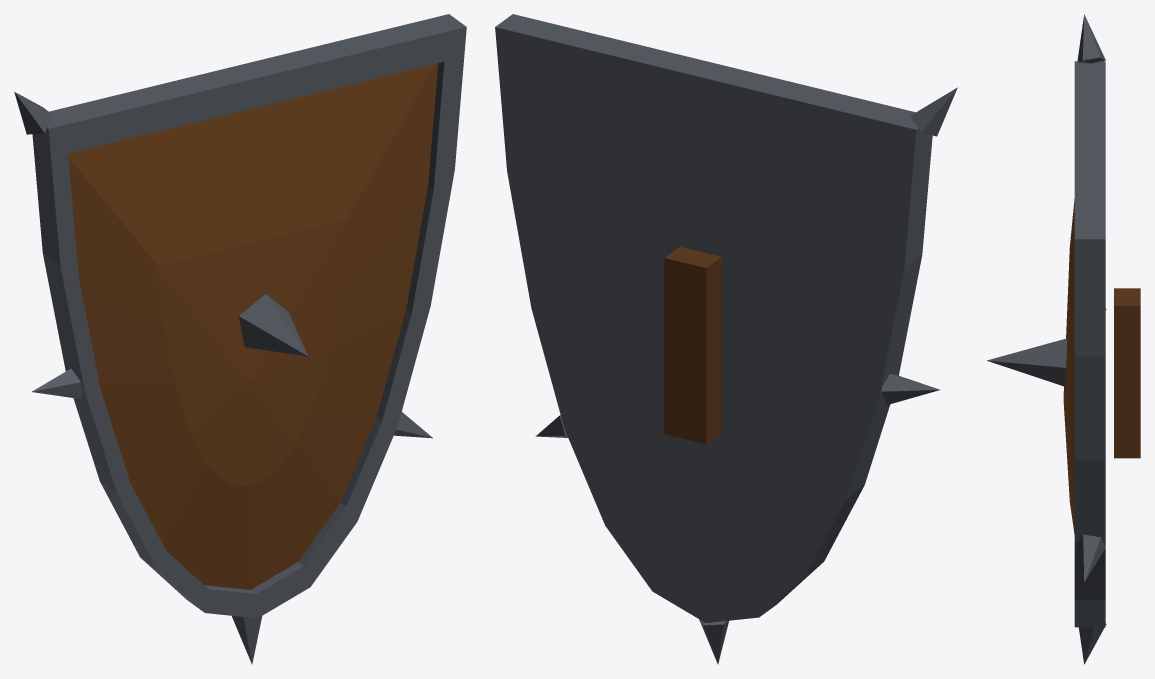
The model's file is shield_spiked_common.glb.
The picture shows the model from 3 angles, left to right: view 1: azimuth 30°, elevation 25°; view 2: azimuth 150°, elevation 25°; view 3: azimuth 270°, elevation 25°; orthographic projection. The views are drawn at different scales.
Parts seen in each view (by area): view 1: shield_spiked_common_export; view 2: shield_spiked_common_export; view 3: shield_spiked_common_export.
Boxes of the visible parts, bbox=[...] form: shield_spiked_common_export: bbox=[14, 14, 466, 664]; shield_spiked_common_export: bbox=[495, 14, 957, 664]; shield_spiked_common_export: bbox=[987, 14, 1140, 664].
Size of the model in its own units: 64.15 by 86.57 by 22.
